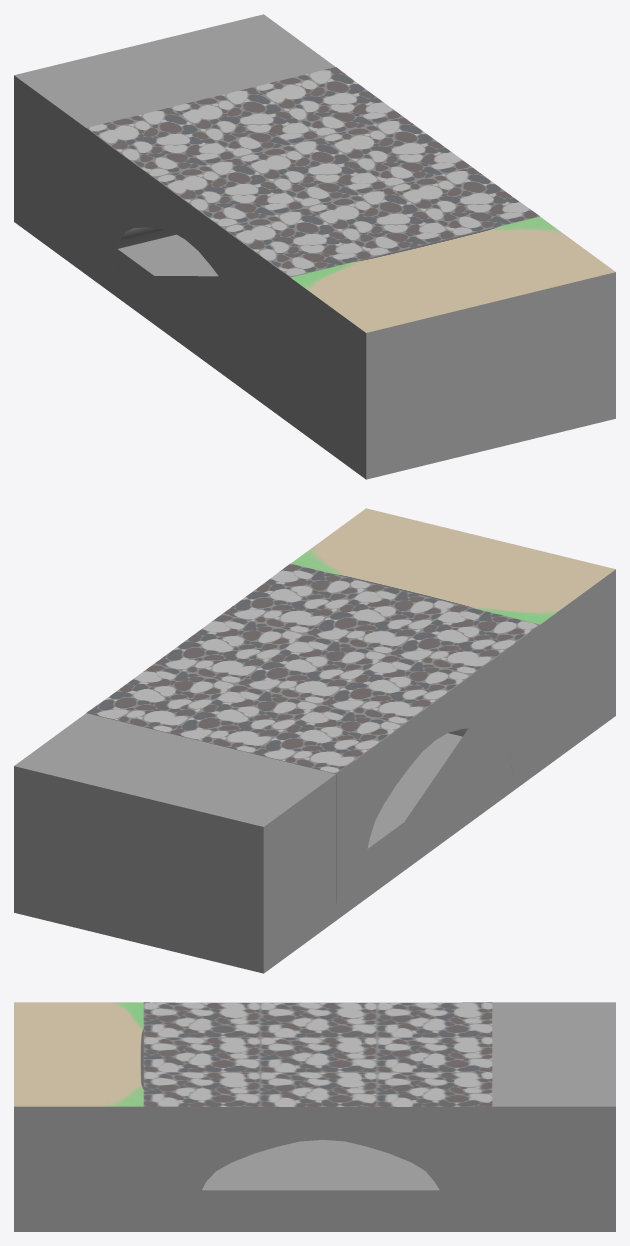
Rendered from ground_proto1.fbx.
The picture shows the model from 3 angles, top to bottom: view 1: azimuth 30°, elevation 25°; view 2: azimuth 150°, elevation 25°; view 3: azimuth 270°, elevation 25°; orthographic projection. The views are drawn at different scales.
Visible parts, largest first — view 1: base1, bridge; view 2: base1, bridge; view 3: base1, bridge.
Part boxes in pixels (left/top/right/bottom): base1: left=14, top=14, right=615, bottom=479; bridge: left=86, top=67, right=539, bottom=406; base1: left=14, top=508, right=615, bottom=973; bridge: left=86, top=563, right=539, bottom=903; base1: left=14, top=1002, right=615, bottom=1231; bridge: left=143, top=1002, right=492, bottom=1221.
Size of the model in its own units: 5.77 by 3.24 by 14.08.
Materials: 3 (2 with a texture image).
